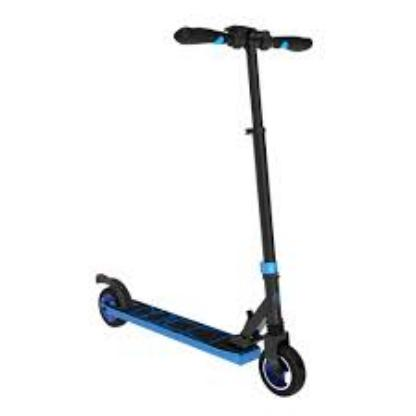bike: (95, 24, 312, 399)
